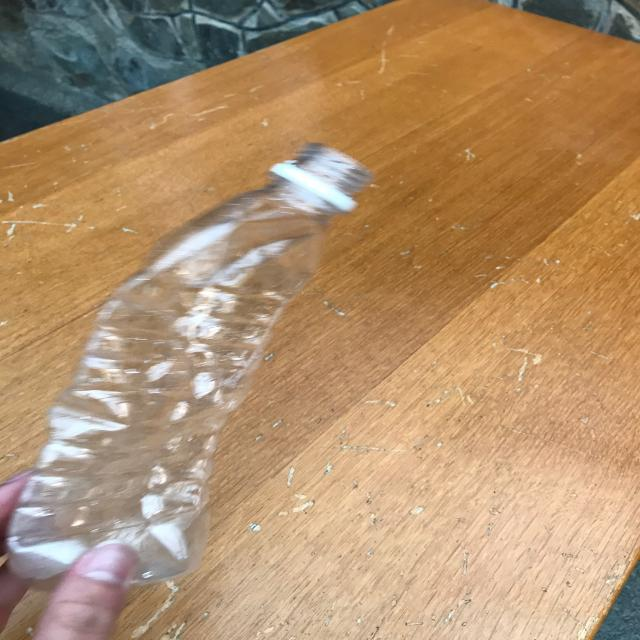plastic_bottle: (5, 144, 374, 593)
